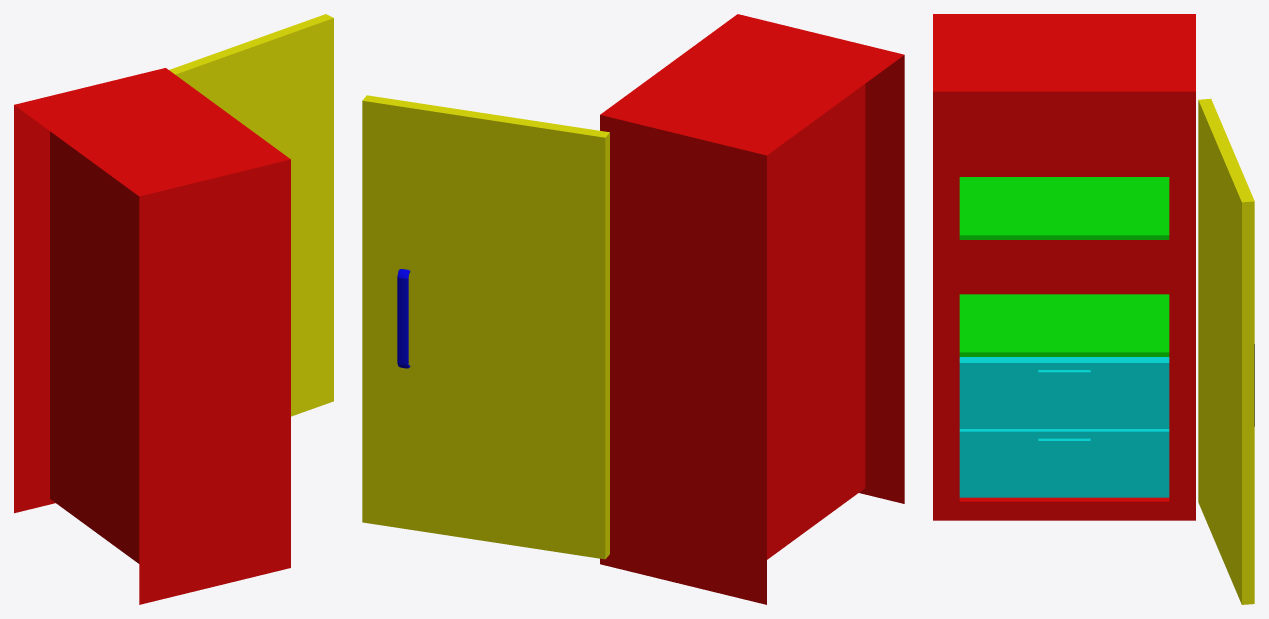
Rendered from Kühlschrank_1_low.fbx.
The picture shows the model from 3 angles, left to right: view 1: azimuth 30°, elevation 25°; view 2: azimuth 150°, elevation 25°; view 3: azimuth 270°, elevation 25°; orthographic projection. The views are drawn at different scales.
Parts seen in each view (by area): view 1: Kühlschrank_1_low; view 2: Kühlschrank_1_low; view 3: Kühlschrank_1_low.
Part boxes in pixels (box(x1,y1,x2,y2)): Kühlschrank_1_low: box(14, 14, 333, 604); Kühlschrank_1_low: box(362, 14, 904, 604); Kühlschrank_1_low: box(933, 14, 1254, 604).
Bounding box in the file's own units: 1.58 × 1.8 × 1.22.
